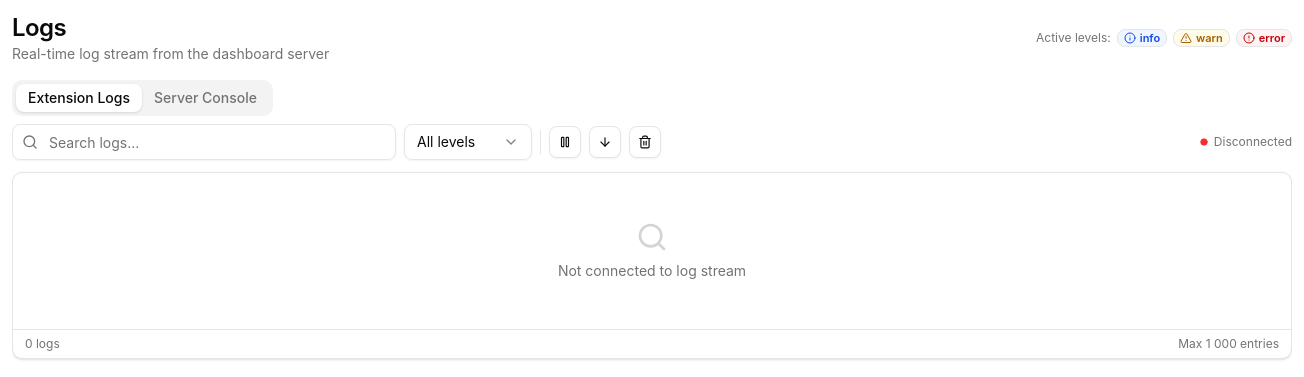
LogsPage › console tab shows entry counts and level colors
Step 1. Click the tab "Server Console" → (206, 98), box [142,84,269,112]
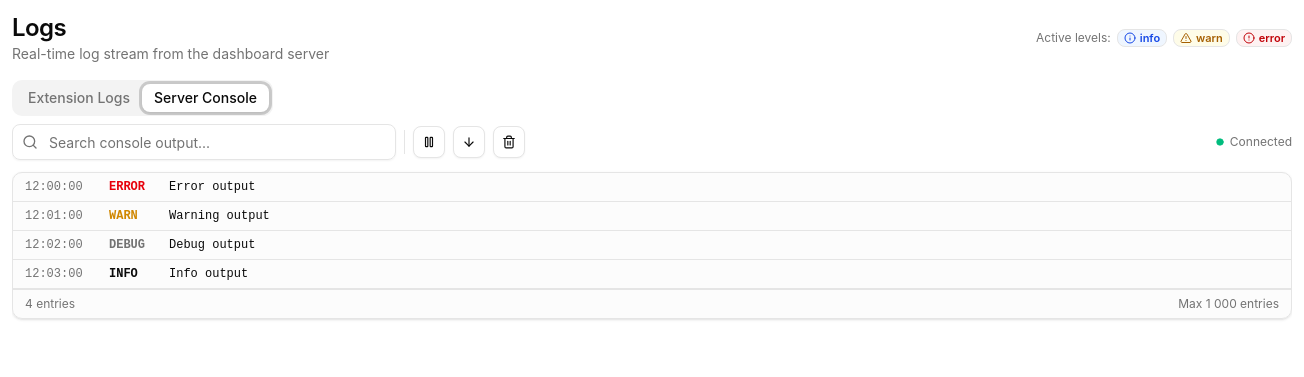
Expected: the text "Error output" is shown, [169,180,255,194]
Expected: the text "Warning output" is shown, [169,209,270,223]
Expected: the text "Debug output" is shown, [169,238,255,252]
